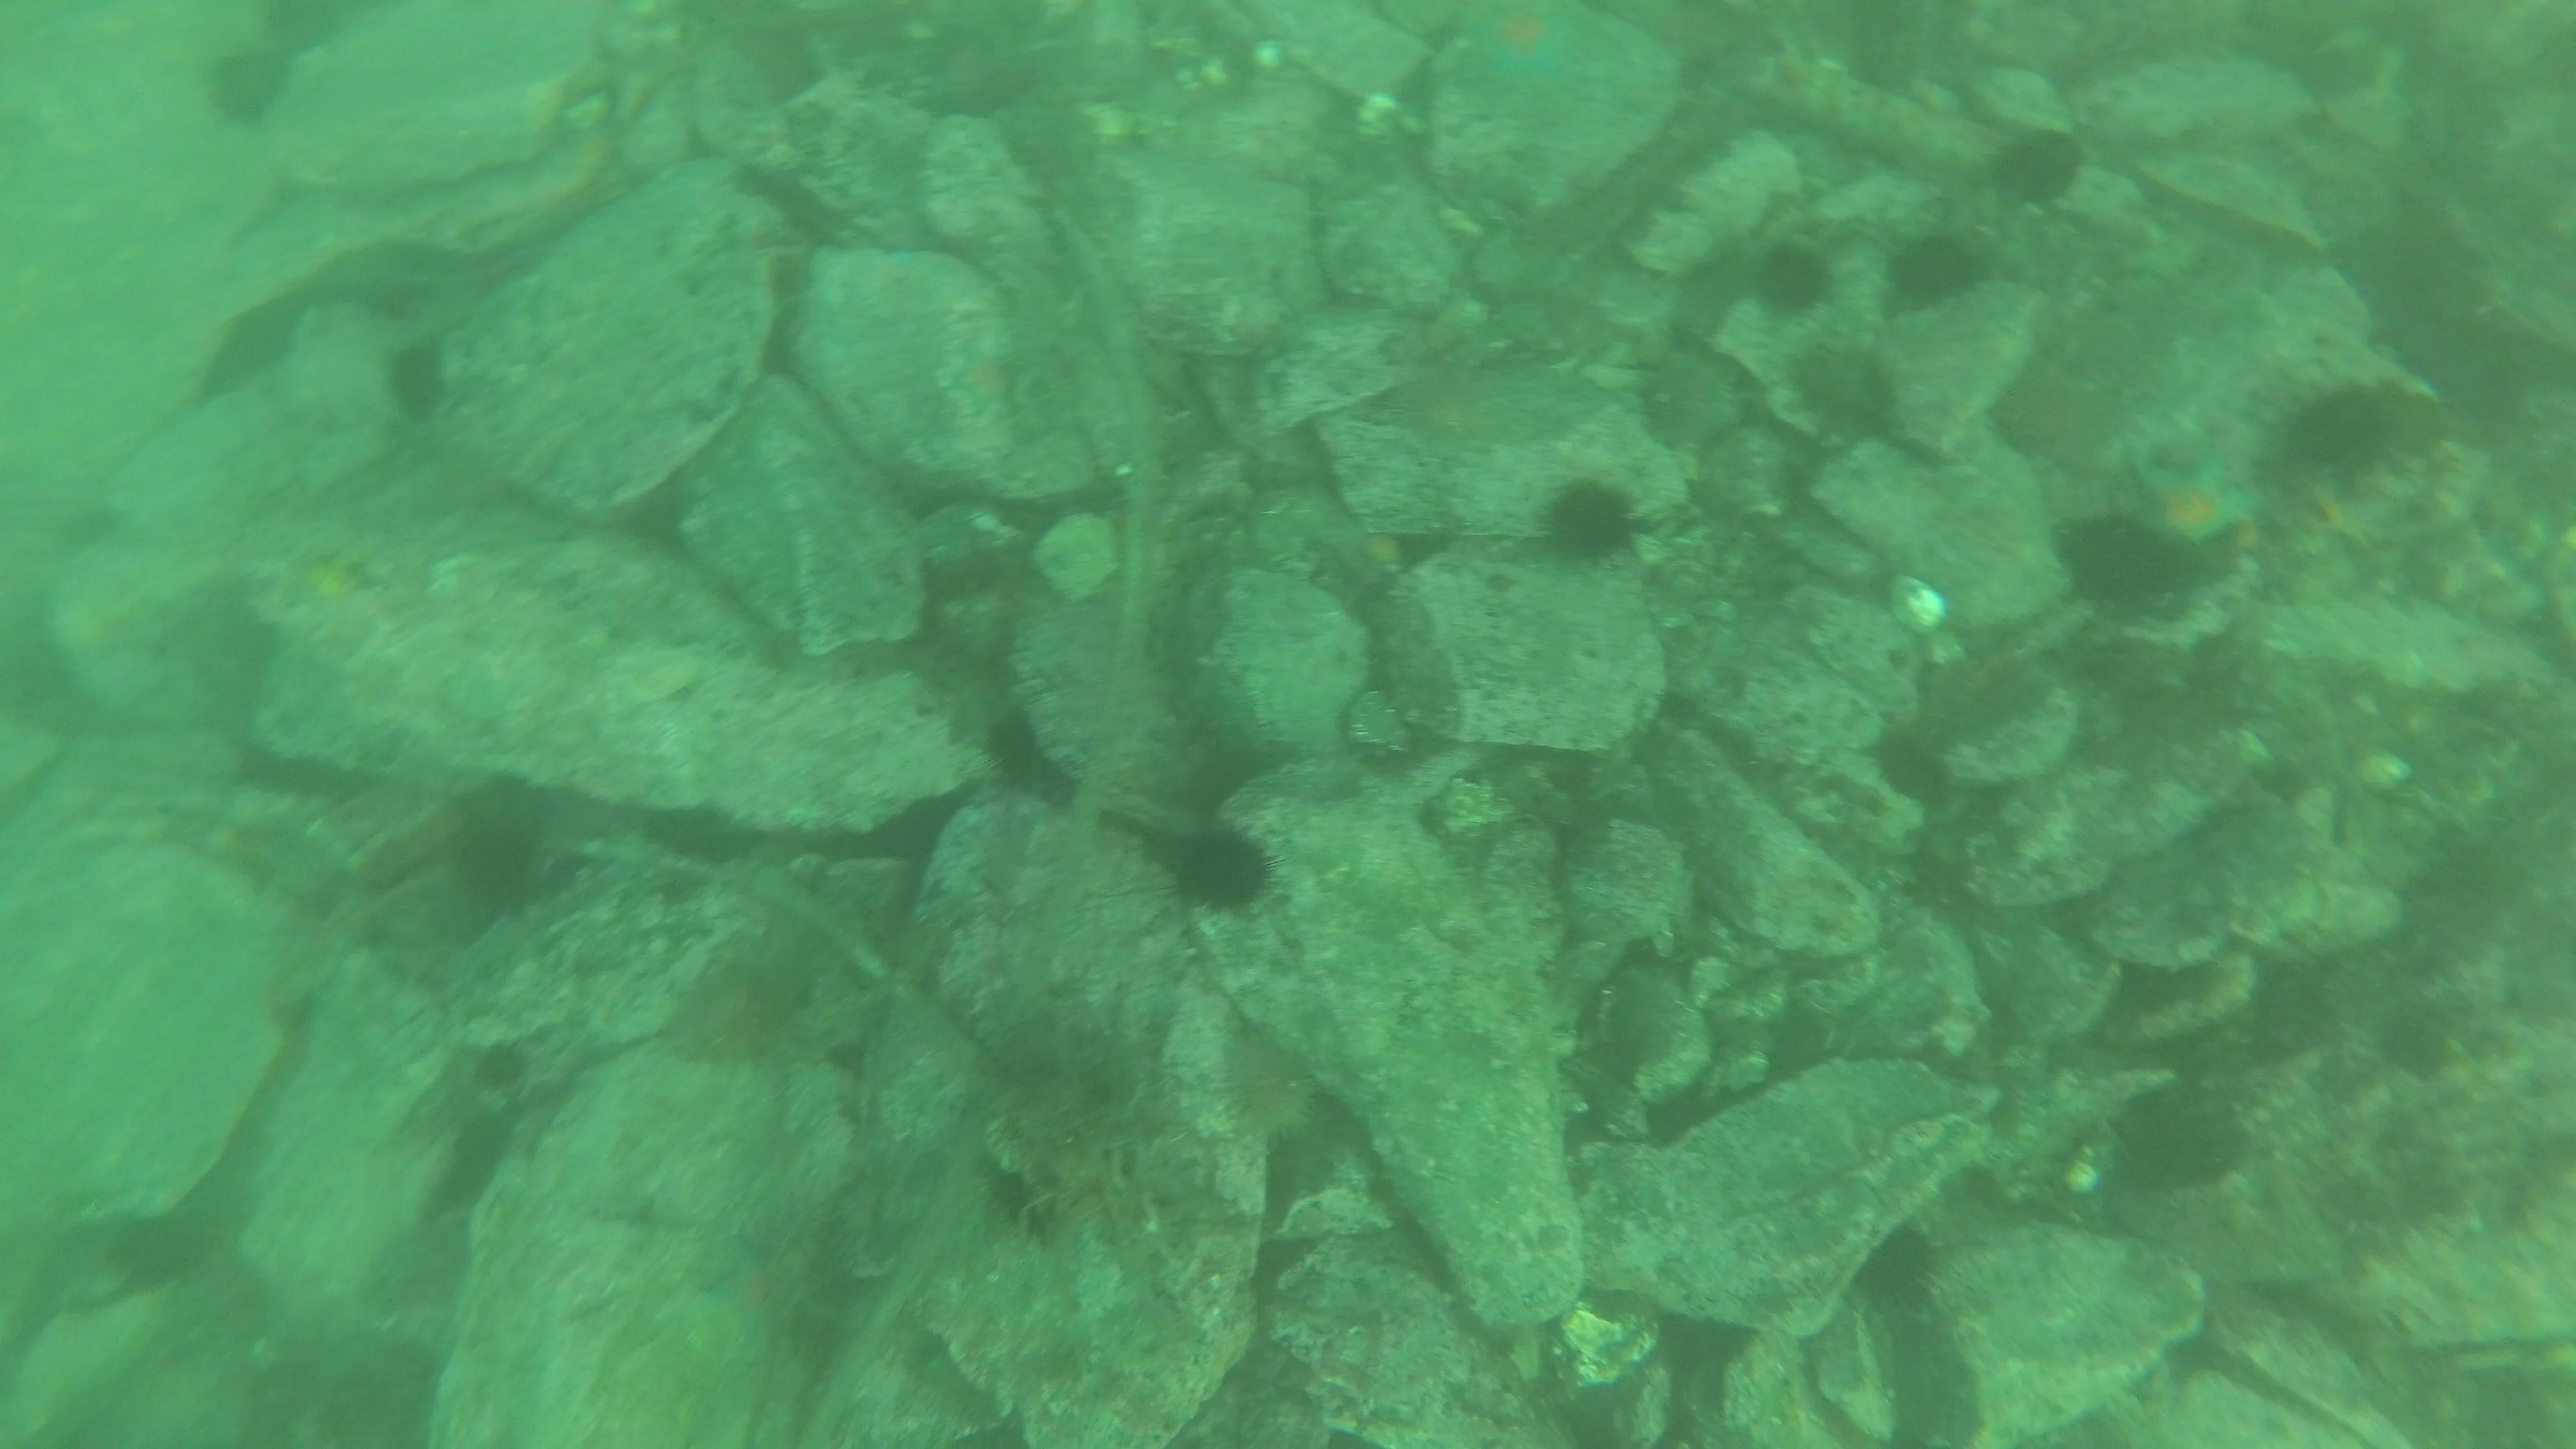echinus: (669, 943, 817, 1074), (2268, 373, 2417, 492), (2109, 1079, 2250, 1200), (2049, 504, 2190, 621), (437, 791, 559, 920), (1215, 1023, 1329, 1155), (1629, 336, 1748, 458), (1782, 333, 1905, 444), (1155, 816, 1281, 918), (1529, 471, 1649, 573), (1879, 223, 1996, 317), (975, 702, 1077, 805), (1849, 1217, 1948, 1318), (1985, 122, 2089, 212), (196, 41, 297, 133), (1744, 235, 1840, 324), (377, 333, 458, 426), (267, 0, 350, 62)
starfish: (2125, 446, 2261, 556), (1451, 2, 1596, 88), (701, 1237, 780, 1338)
